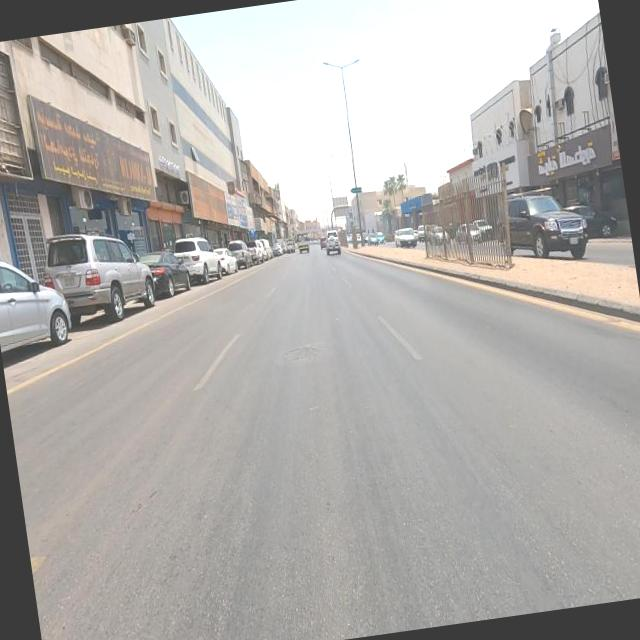debris: (21, 86, 208, 216), (0, 31, 97, 205), (149, 134, 273, 269)
